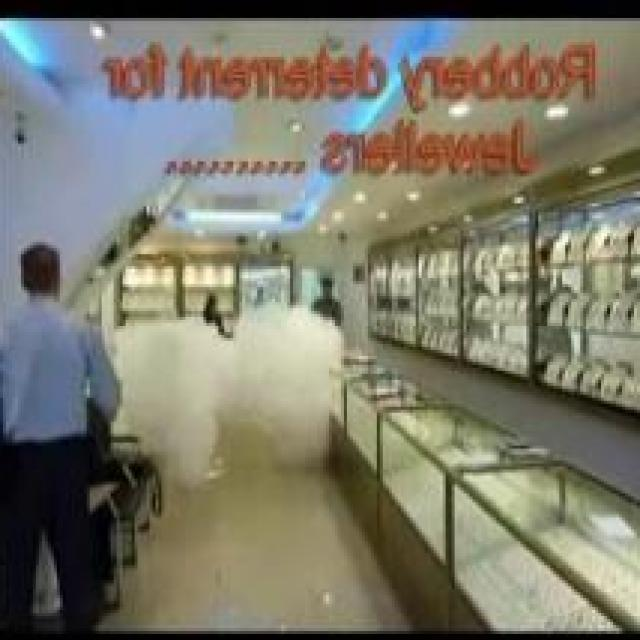fire: (111, 315, 230, 492), (220, 300, 346, 466)
